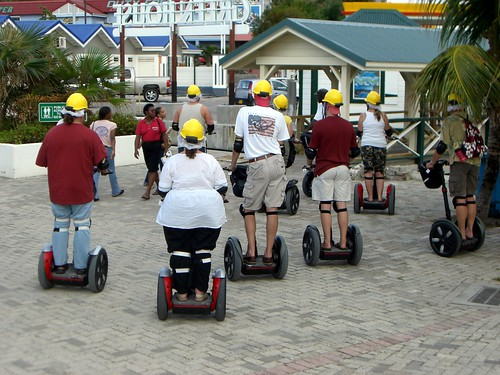person hardhat: (41, 90, 117, 281), (151, 119, 214, 301), (233, 81, 288, 262), (308, 91, 356, 247), (435, 90, 481, 240), (355, 89, 390, 203), (176, 82, 218, 159), (272, 96, 297, 191)
